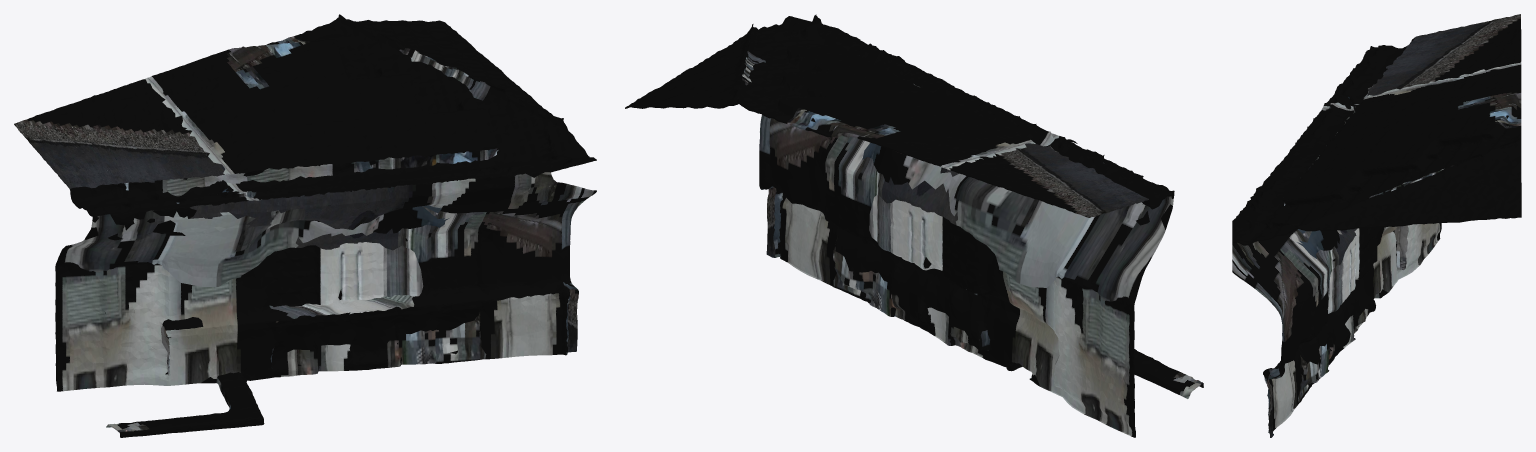
3 renders of one model, left to right at view 1: azimuth 30°, elevation 25°; view 2: azimuth 150°, elevation 25°; view 3: azimuth 270°, elevation 25°, orthographic. The views are drawn at different scales.
Parts seen in each view (by area): view 1: node_183; view 2: node_183; view 3: node_183.
Boxes of the visible parts, <box> form: node_183: <box>14,14,596,437</box>; node_183: <box>625,14,1203,437</box>; node_183: <box>1232,14,1521,437</box>.
Bounding box in the file's own units: 8.98 × 5.31 × 5.49.
1 material, 1 textured.
